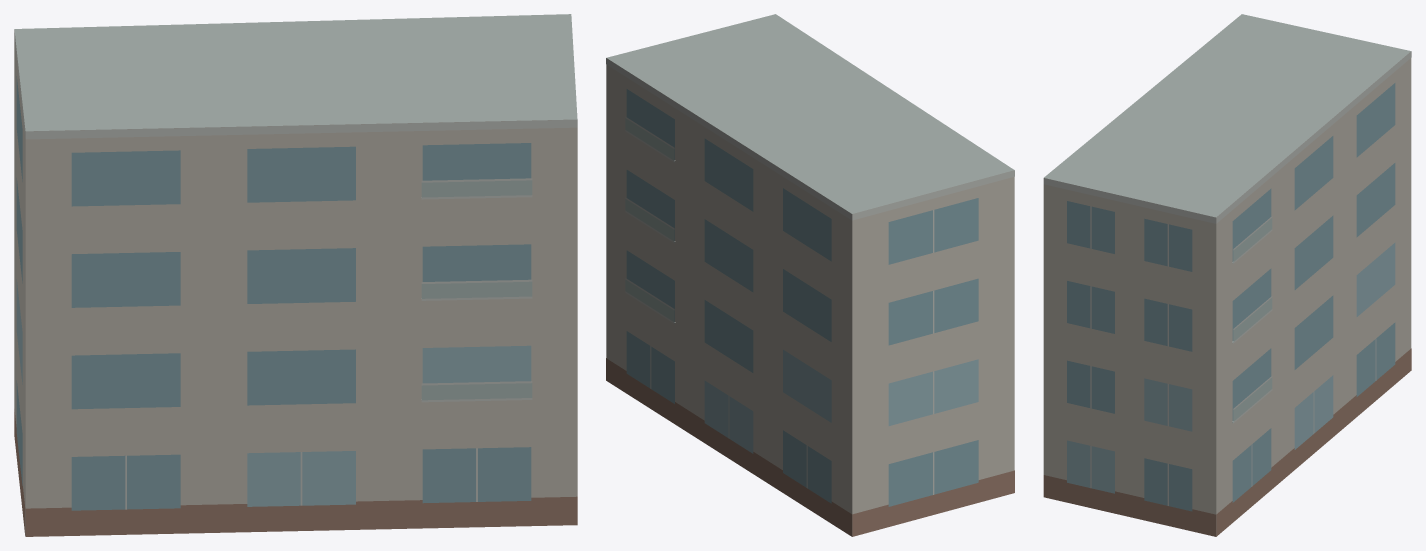
Rendered from survey-upis-33007111.glb.
3 renders of one model, left to right at view 1: azimuth 30°, elevation 25°; view 2: azimuth 150°, elevation 25°; view 3: azimuth 270°, elevation 25°, orthographic. The views are drawn at different scales.
Visible parts, largest first — view 1: survey-upis-33007111.tmp; view 2: survey-upis-33007111.tmp; view 3: survey-upis-33007111.tmp.
Boxes of the visible parts, bbox=[...] form: survey-upis-33007111.tmp: bbox=[14, 14, 577, 536]; survey-upis-33007111.tmp: bbox=[606, 14, 1014, 536]; survey-upis-33007111.tmp: bbox=[1043, 14, 1411, 536].
Bounding box in the file's own units: 16.54 × 12.1 × 12.64.
